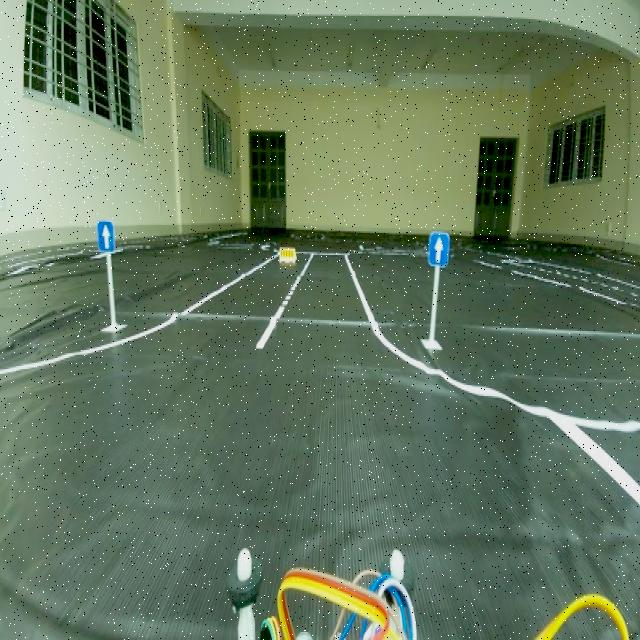onewayroad: (426, 224, 452, 266), (98, 218, 117, 256)
roadblock: (276, 242, 297, 267)
